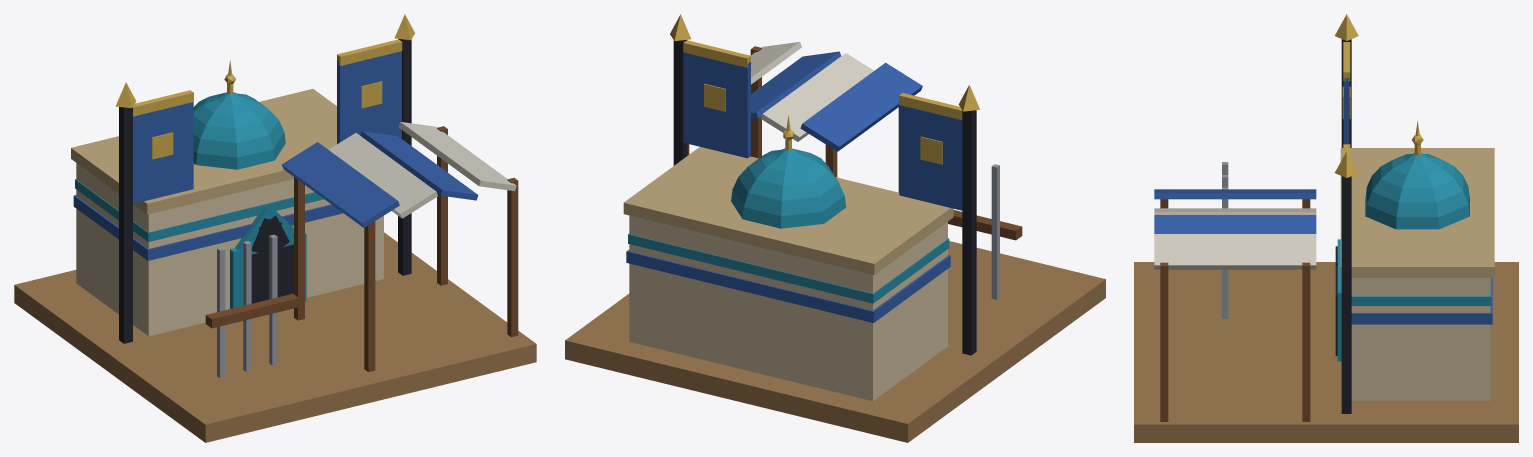
Rendered from camp_militia_t2.glb.
3 views of the same model, side by side, from view 1: azimuth 30°, elevation 25°; view 2: azimuth 150°, elevation 25°; view 3: azimuth 270°, elevation 25° (orthographic). The views are drawn at different scales.
Parts seen in each view (by area): view 1: body; view 2: body; view 3: body.
Part boxes in pixels (x1,y1,x2,y2): body: [14, 14, 536, 442]; body: [565, 14, 1105, 442]; body: [1134, 14, 1518, 442].
Size of the model in its own units: 1.9 by 1.52 by 1.9.
